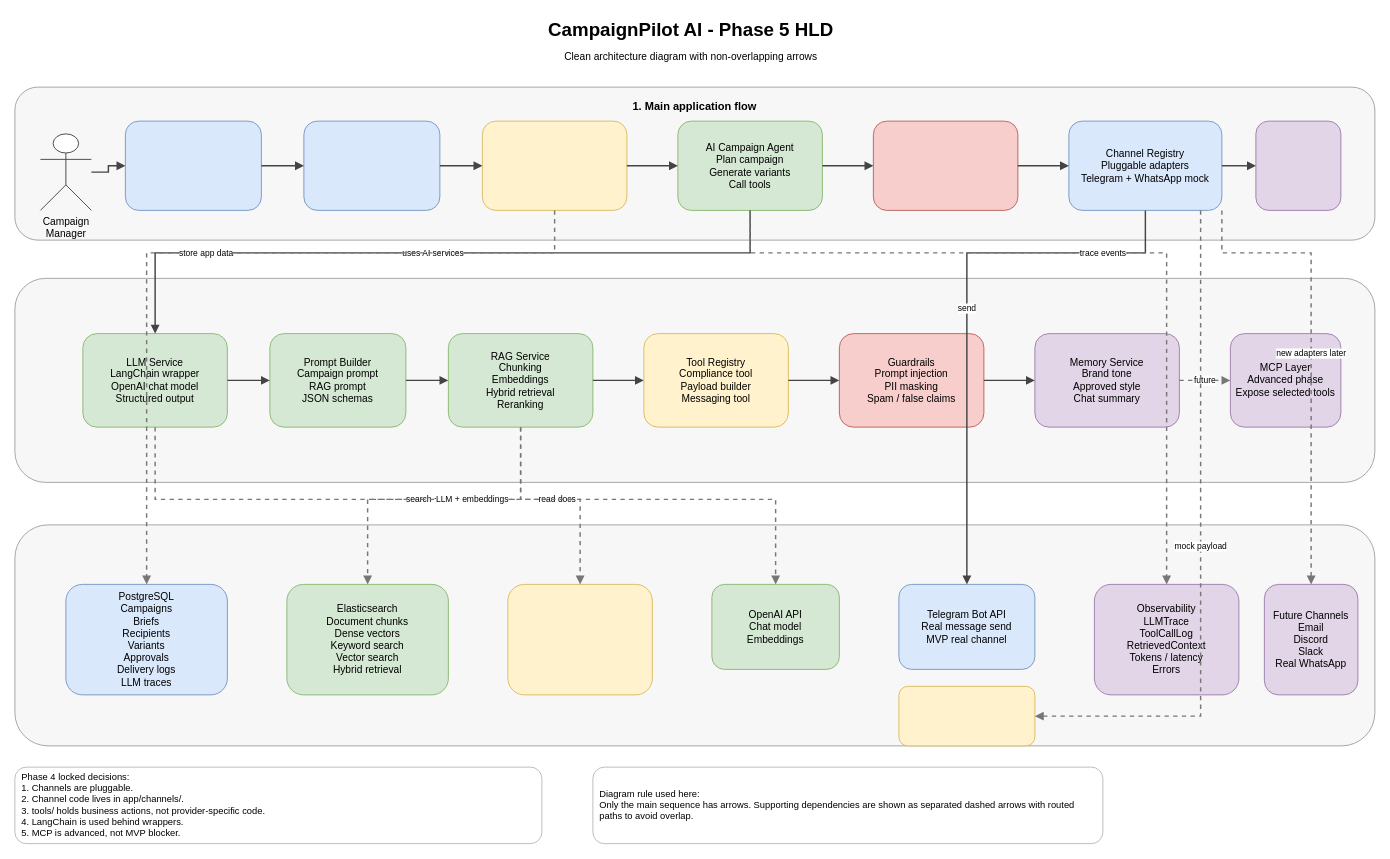
This 1390x859 diagram has some shape labels left out. Each missing label, with the box of its shape:
2. GenAI processing services used by AI Campaign Agent: (14, 278, 1375, 482)
3. Data stores, external APIs and channel providers: (14, 524, 1375, 746)
Campaign Orchestrator Campaign lifecycle State machine Approval rules: (482, 120, 627, 210)
Campaign Status SENT / FAILED Logs available: (1255, 120, 1341, 210)
FastAPI API Layer Routes Dependencies Security / config: (303, 120, 440, 210)
File Storage Brand/product docs Local volume in MVP S3/MinIO later: (507, 584, 652, 695)
Human Approval Gate Approve / reject AI cannot auto-send: (873, 120, 1018, 210)
React Frontend Campaign chat Document upload Variant review Approval screen: (125, 120, 261, 210)
WhatsApp Mock Template-style JSON No real WABA in MVP: (898, 686, 1035, 746)
